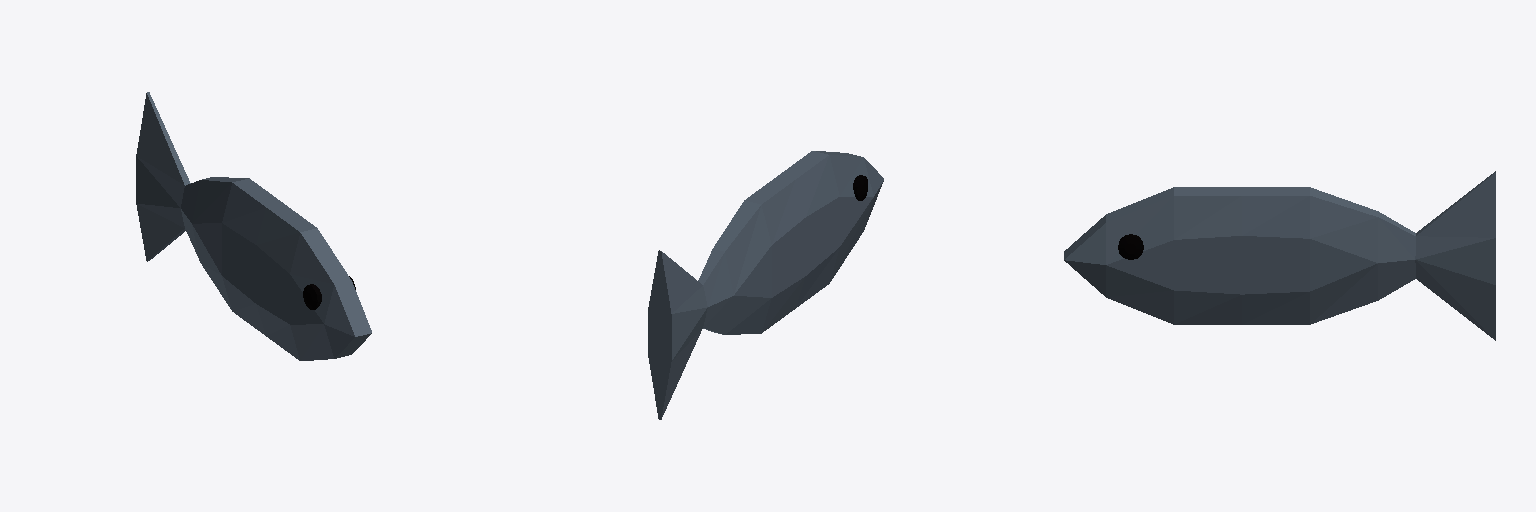
File: fish.obj
3 views of the same model, side by side, from view 1: azimuth 30°, elevation 25°; view 2: azimuth 150°, elevation 25°; view 3: azimuth 270°, elevation 25° (orthographic).
Parts seen in each view (by area): view 1: Cube; view 2: Cube; view 3: Cube.
Part boxes in pixels (x1,y1,x2,y2): Cube: (136, 92, 371, 360); Cube: (648, 151, 883, 419); Cube: (1064, 171, 1495, 340).
Bounding box in the file's own units: 2.19 × 7.87 × 18.22.